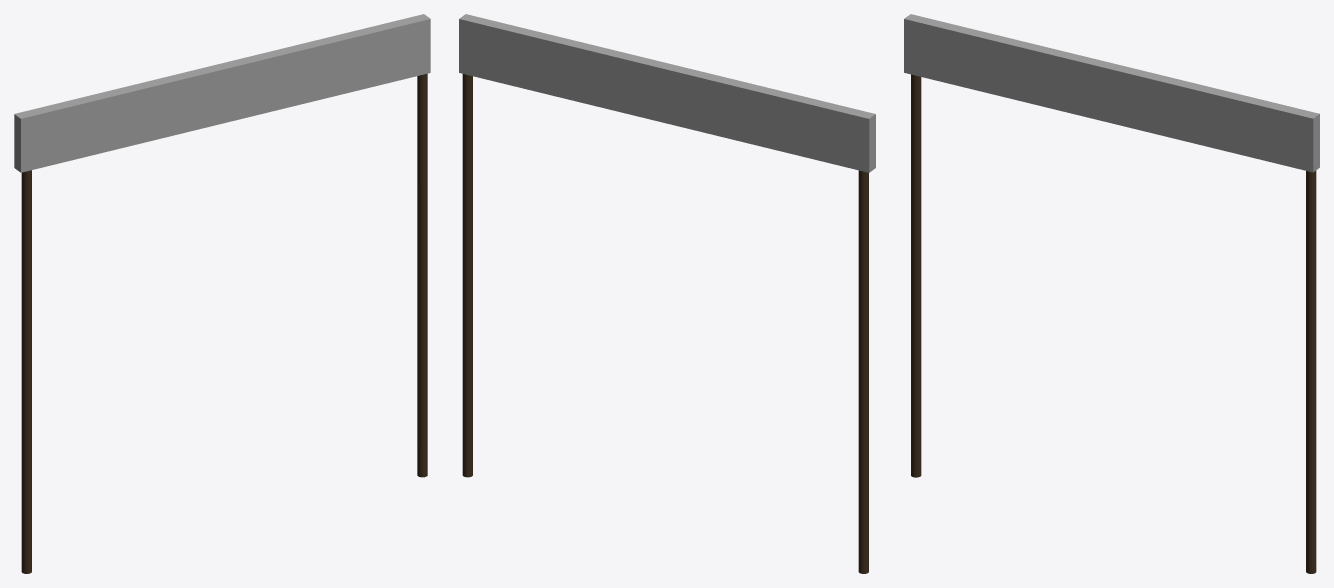
Rendered from Tent_0_Sign.fbx.
3 renders of one model, left to right at view 1: azimuth 30°, elevation 25°; view 2: azimuth 150°, elevation 25°; view 3: azimuth 330°, elevation 25°, orthographic.
Parts seen in each view (by area): view 1: Sign, Pole, Pole1; view 2: Sign, Pole, Pole1; view 3: Sign, Pole, Pole1.
Part boxes in pixels (x1=…): Sign: x1=14, y1=14, x2=430, y2=172; Pole: x1=417, y1=73, x2=427, y2=477; Pole1: x1=21, y1=170, x2=31, y2=573; Sign: x1=459, y1=14, x2=875, y2=172; Pole: x1=462, y1=74, x2=472, y2=477; Pole1: x1=858, y1=170, x2=868, y2=573; Sign: x1=904, y1=14, x2=1319, y2=172; Pole: x1=1306, y1=170, x2=1316, y2=573; Pole1: x1=911, y1=74, x2=921, y2=477.
Bounding box in the file's own units: 543 × 579 × 15.41.
